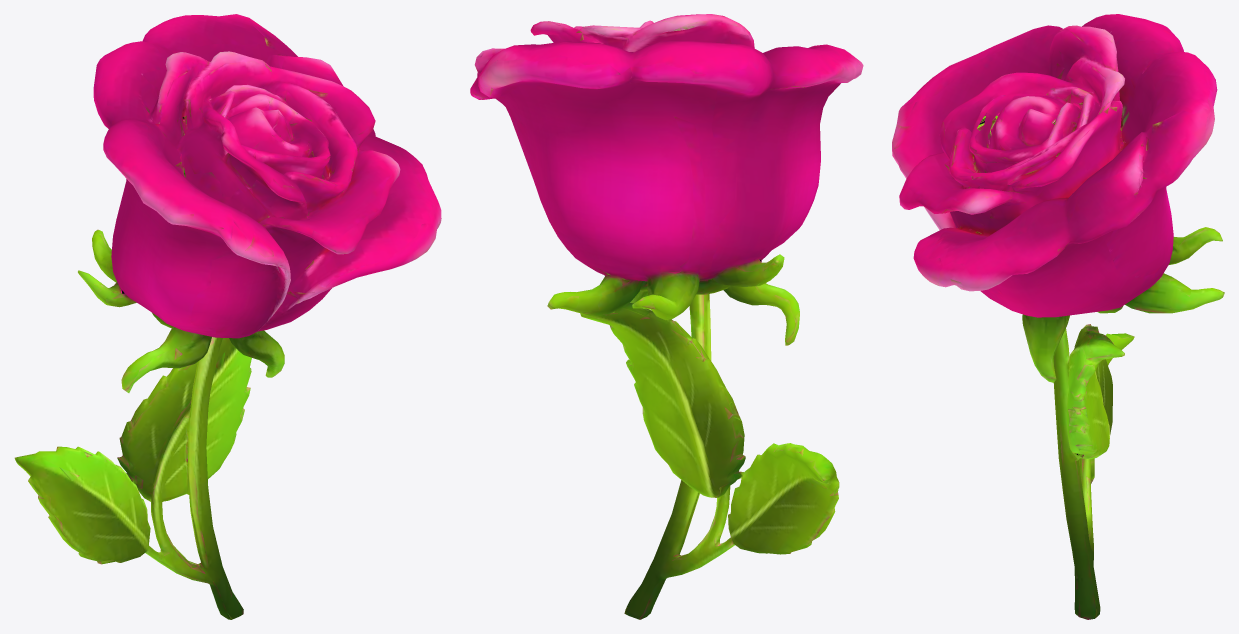
File: rose.glb
3 views of the same model, side by side, from view 1: azimuth 30°, elevation 25°; view 2: azimuth 150°, elevation 25°; view 3: azimuth 270°, elevation 25° (orthographic). The views are drawn at different scales.
Visible parts, largest first — view 1: Mesh1.0; view 2: Mesh1.0; view 3: Mesh1.0.
Part boxes in pixels (x1=…): Mesh1.0: x1=14, y1=14, x2=441, y2=619; Mesh1.0: x1=470, y1=14, x2=863, y2=619; Mesh1.0: x1=892, y1=14, x2=1224, y2=619.
Bounding box in the file's own units: 1.25 × 1.91 × 1.02.
1 material, 1 textured.
